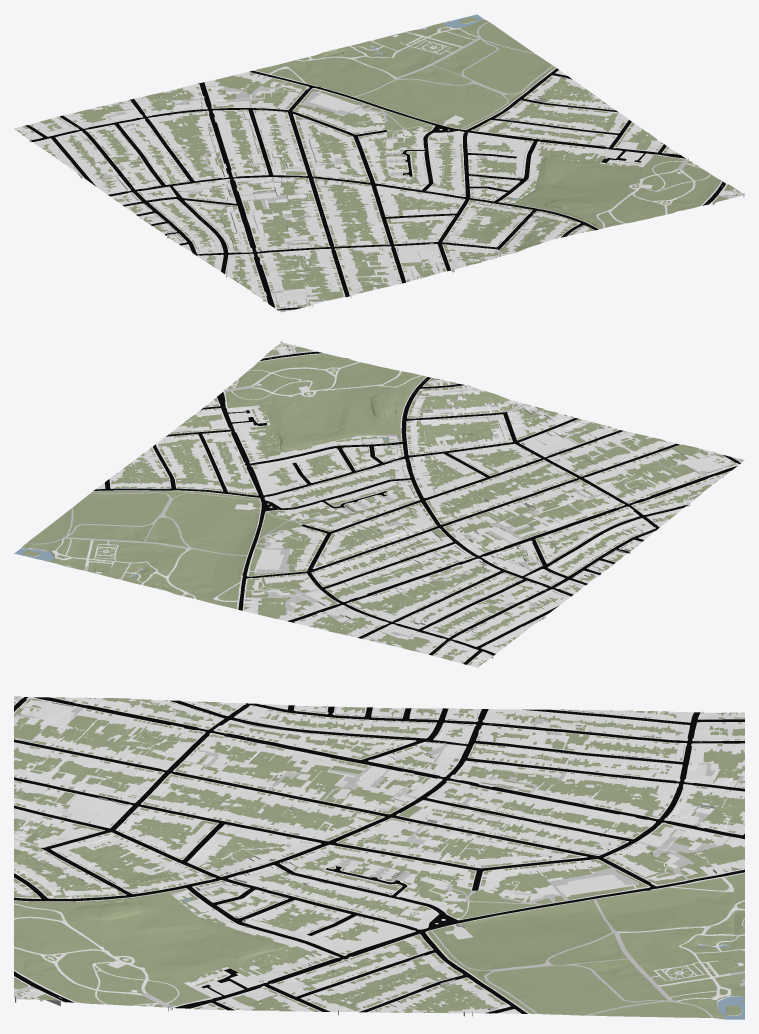
The model's file is TQ3474_Terrain_LOD_1_draco.glb.
3 renders of one model, top to bottom at view 1: azimuth 30°, elevation 25°; view 2: azimuth 150°, elevation 25°; view 3: azimuth 270°, elevation 25°, orthographic. The views are drawn at different scales.
Parts seen in each view (by area): view 1: TQ3474_Terrain; view 2: TQ3474_Terrain; view 3: TQ3474_Terrain.
Part boxes in pixels (<box>): TQ3474_Terrain: <box>14,14,744,312</box>; TQ3474_Terrain: <box>14,341,744,667</box>; TQ3474_Terrain: <box>14,696,744,1019</box>.
Bounding box in the file's own units: 1000 × 44.19 × 1000.
Materials: 1 (1 with a texture image).
